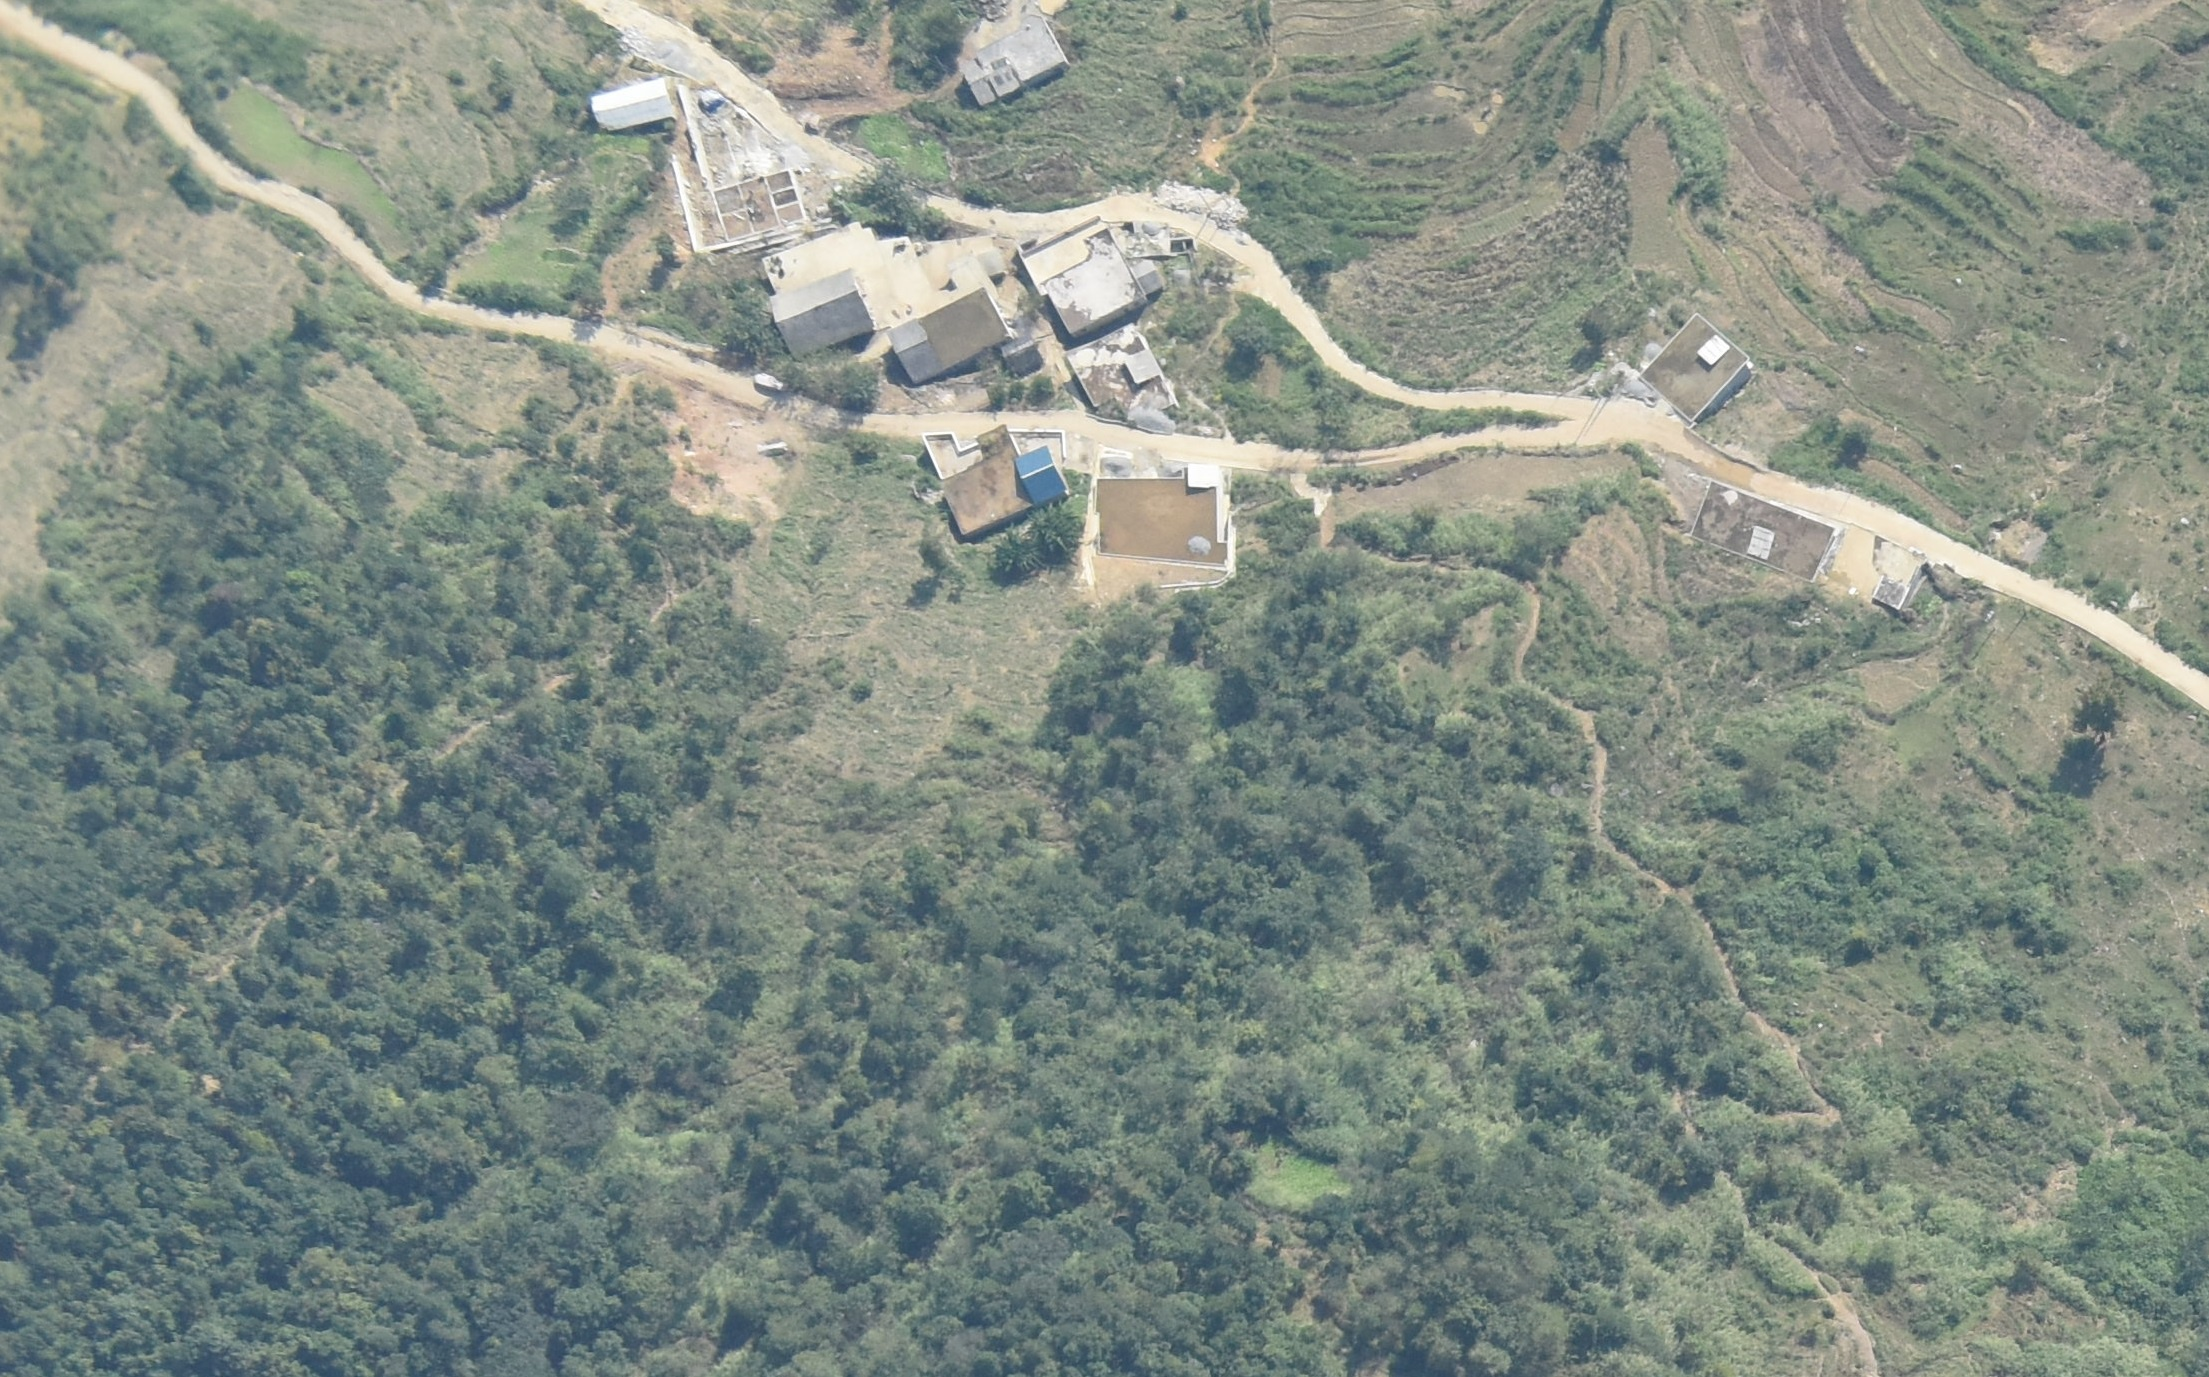building: (1690, 478, 1833, 582), (1021, 211, 1143, 332), (1094, 463, 1234, 566), (1643, 309, 1752, 420), (890, 290, 1005, 387), (950, 22, 1067, 106), (1069, 328, 1181, 416), (766, 270, 877, 355), (942, 430, 1032, 531), (585, 81, 672, 135), (1012, 447, 1067, 508), (950, 251, 1005, 287), (1001, 336, 1043, 374), (1874, 577, 1911, 611), (1132, 262, 1166, 293)
